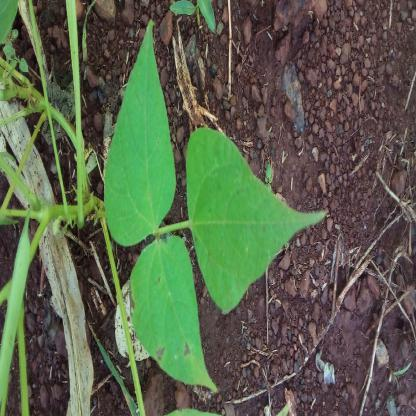Beans_Angular_LeafSpot: (181, 129, 325, 317), (122, 240, 229, 398), (103, 23, 176, 242)
